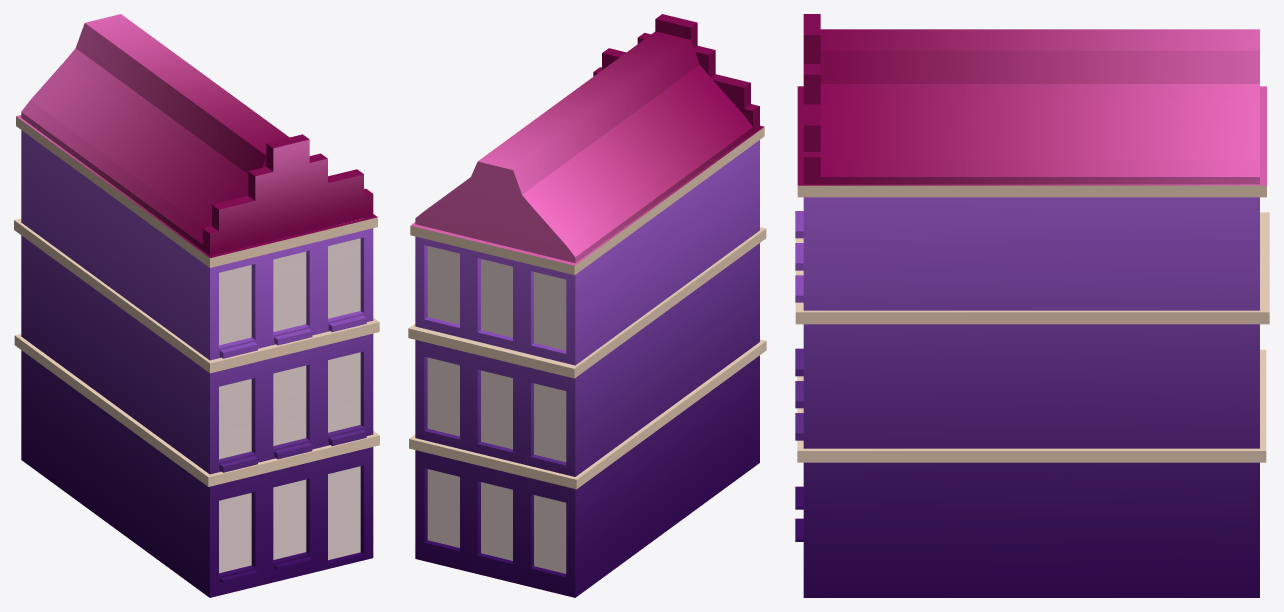
The model's file is Grachtenhuisje_Paars.fbx.
3 views of the same model, side by side, from view 1: azimuth 30°, elevation 25°; view 2: azimuth 150°, elevation 25°; view 3: azimuth 270°, elevation 25° (orthographic). The views are drawn at different scales.
Visible parts, largest first — view 1: Rijtjeshuis_Paars; view 2: Rijtjeshuis_Paars; view 3: Rijtjeshuis_Paars.
Boxes of the visible parts, left/top/right/bottom form: Rijtjeshuis_Paars: left=14, top=14, right=379, bottom=597; Rijtjeshuis_Paars: left=408, top=14, right=766, bottom=597; Rijtjeshuis_Paars: left=795, top=14, right=1269, bottom=597.
Bounding box in the file's own units: 420 × 1016 × 832.
